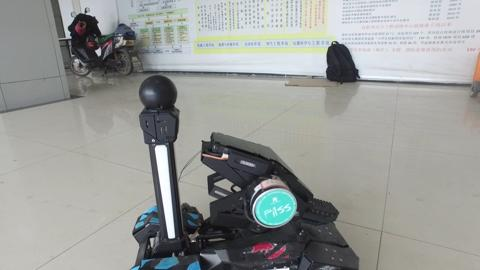bag: (325, 41, 368, 80)
chariot: (129, 87, 334, 270)
